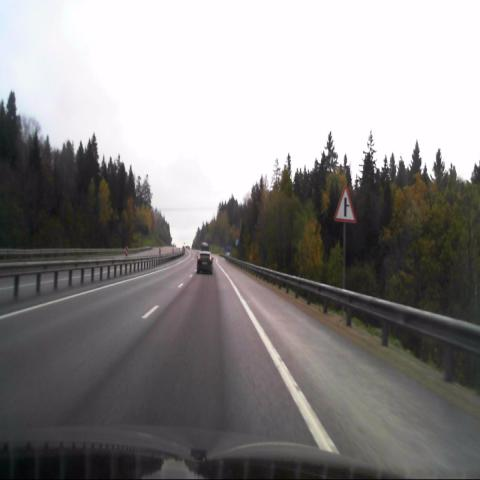2_3_2: (333, 184, 356, 223)
